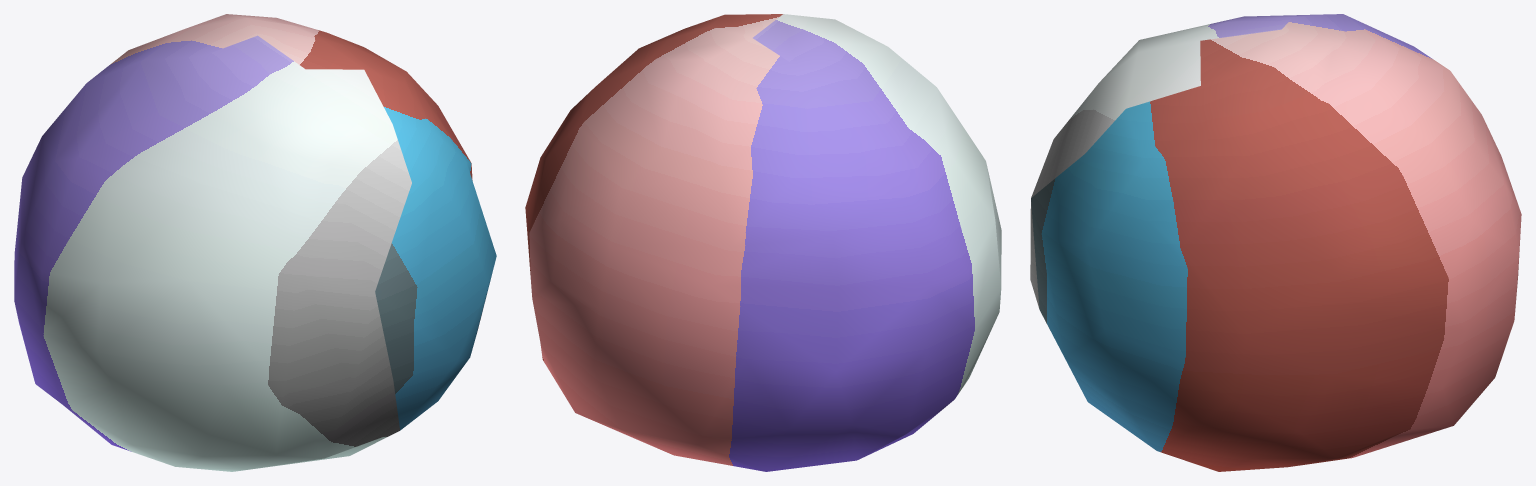
The model's file is Prop_SnowmanBodySmall.glb.
3 renders of one model, left to right at view 1: azimuth 30°, elevation 25°; view 2: azimuth 150°, elevation 25°; view 3: azimuth 270°, elevation 25°, orthographic. The views are drawn at different scales.
Visible parts, largest first — view 1: Prop_SnowmanBodySmall; view 2: Prop_SnowmanBodySmall; view 3: Prop_SnowmanBodySmall.
Part boxes in pixels (x1=…): Prop_SnowmanBodySmall: x1=14, y1=14, x2=496, y2=471; Prop_SnowmanBodySmall: x1=525, y1=14, x2=1001, y2=471; Prop_SnowmanBodySmall: x1=1030, y1=14, x2=1521, y2=471.
Size of the model in its own units: 0.4558 by 0.416 by 0.4498.
1 material, 1 textured.
